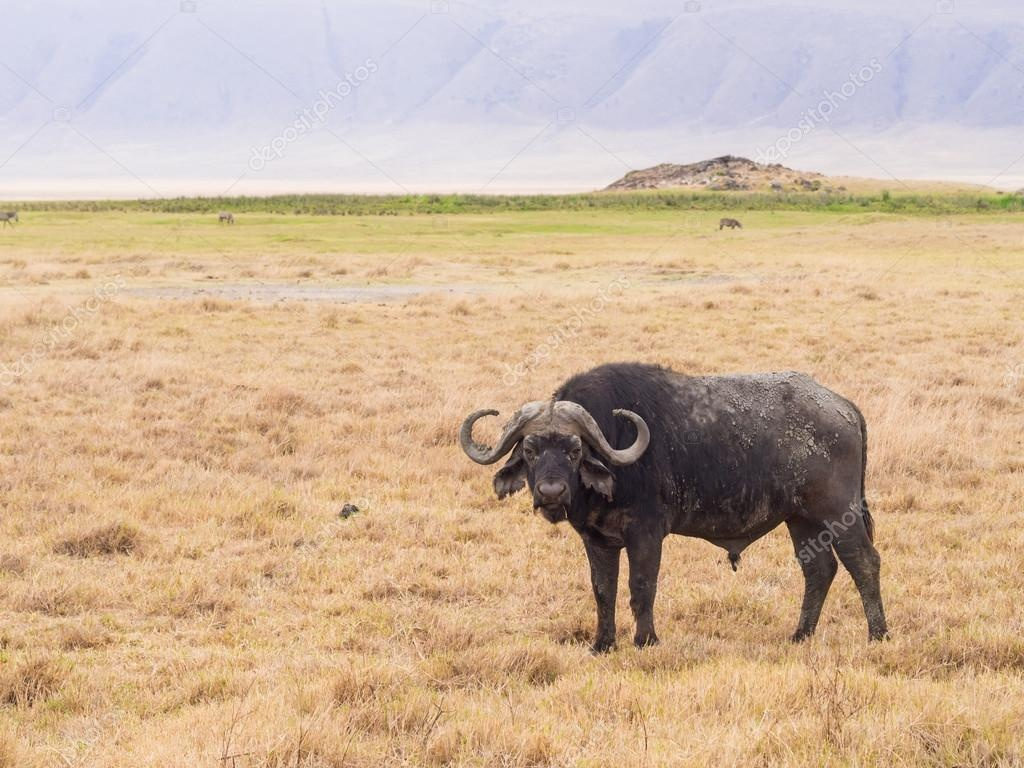buffalo: (458, 358, 889, 650)
